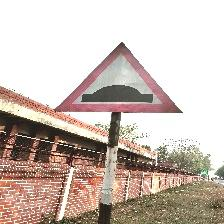Speed-breaker: (54, 42, 184, 112)
